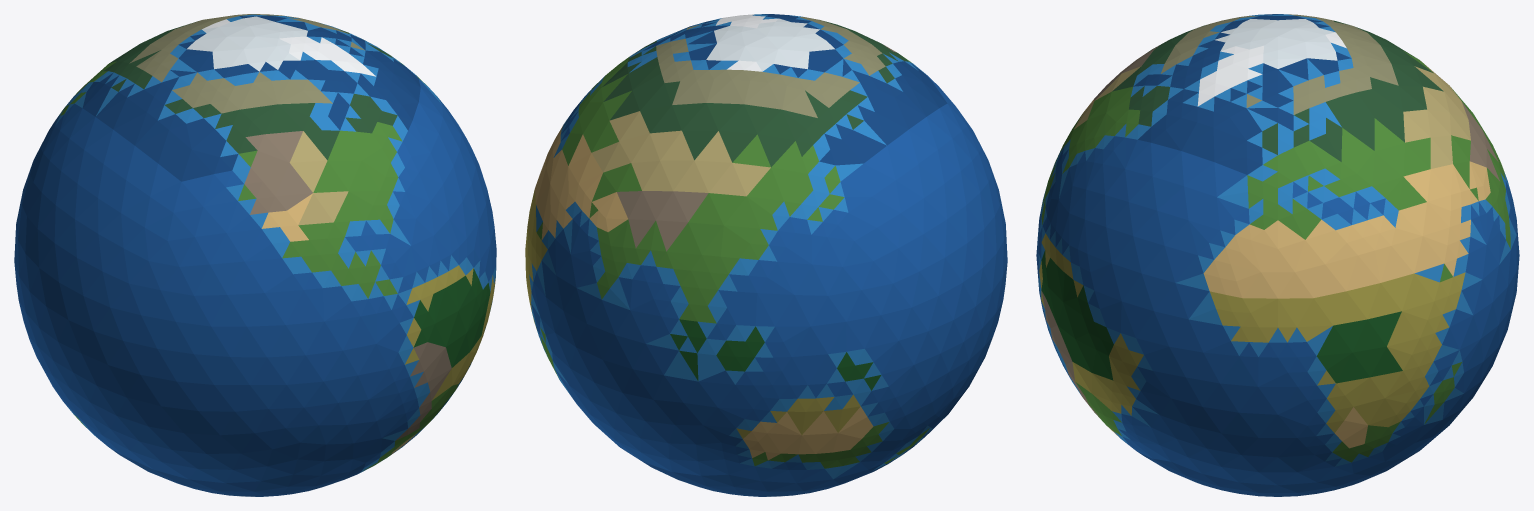
Rendered from Tierra.glb.
The picture shows the model from 3 angles, left to right: view 1: azimuth 30°, elevation 25°; view 2: azimuth 150°, elevation 25°; view 3: azimuth 270°, elevation 25°; orthographic projection.
Visible parts, largest first — view 1: Tierra; view 2: Tierra; view 3: Tierra.
Boxes of the visible parts, x1,y1,x2,y2 form: Tierra: (14,14,496,496); Tierra: (525,14,1007,496); Tierra: (1036,14,1519,496).
Size of the model in its own units: 1.5 by 1.5 by 1.5.
